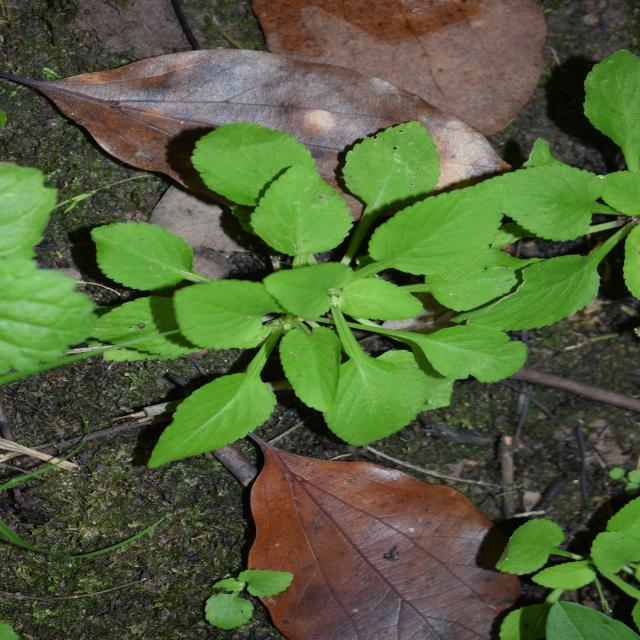Viola: (130, 113, 467, 498)
